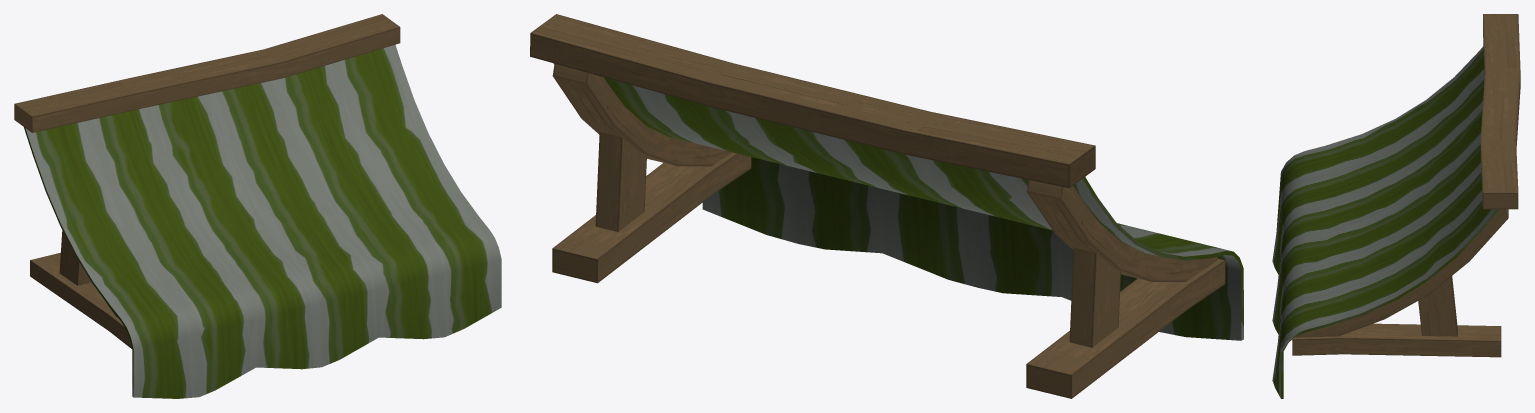
File: SM_building_canopy_01.glb
The picture shows the model from 3 angles, left to right: view 1: azimuth 30°, elevation 25°; view 2: azimuth 150°, elevation 25°; view 3: azimuth 270°, elevation 25°; orthographic projection. The views are drawn at different scales.
Visible parts, largest first — view 1: SM_building_canopy_01; view 2: SM_building_canopy_01; view 3: SM_building_canopy_01.
Part boxes in pixels (x1=…): SM_building_canopy_01: x1=14, y1=14, x2=501, y2=398; SM_building_canopy_01: x1=530, y1=14, x2=1243, y2=398; SM_building_canopy_01: x1=1272, y1=14, x2=1520, y2=398.
Bounding box in the file's own units: 3.75 × 2.13 × 2.2.
2 materials, 2 textured.
